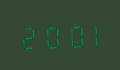one: (81, 19, 101, 48)
two: (18, 21, 38, 50)
zero: (39, 20, 59, 50), (60, 19, 80, 49)
